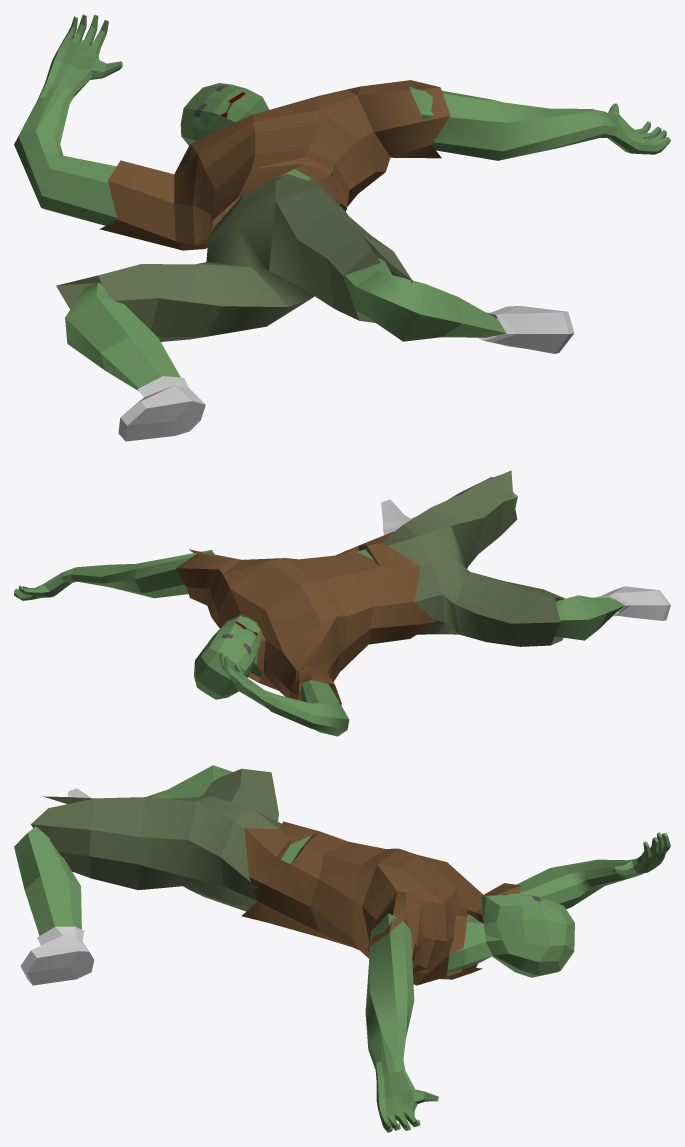
The model's file is ZombieDead(60).obj.
The picture shows the model from 3 angles, top to bottom: view 1: azimuth 30°, elevation 25°; view 2: azimuth 150°, elevation 25°; view 3: azimuth 270°, elevation 25°; orthographic projection. The views are drawn at different scales.
Parts seen in each view (by area): view 1: Object001; view 2: Object001; view 3: Object001.
Part boxes in pixels (x1,y1,x2,y2): Object001: (14, 14, 670, 441); Object001: (14, 470, 670, 736); Object001: (14, 765, 670, 1132).
Size of the model in its own units: 60.57 by 13.95 by 53.44.
